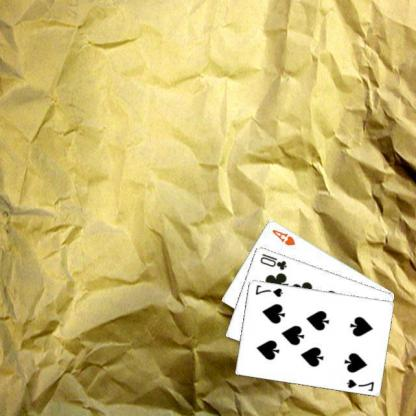10C: (259, 251, 290, 271)
7S: (254, 282, 286, 298), (345, 376, 377, 392)
AH: (271, 226, 299, 247)
